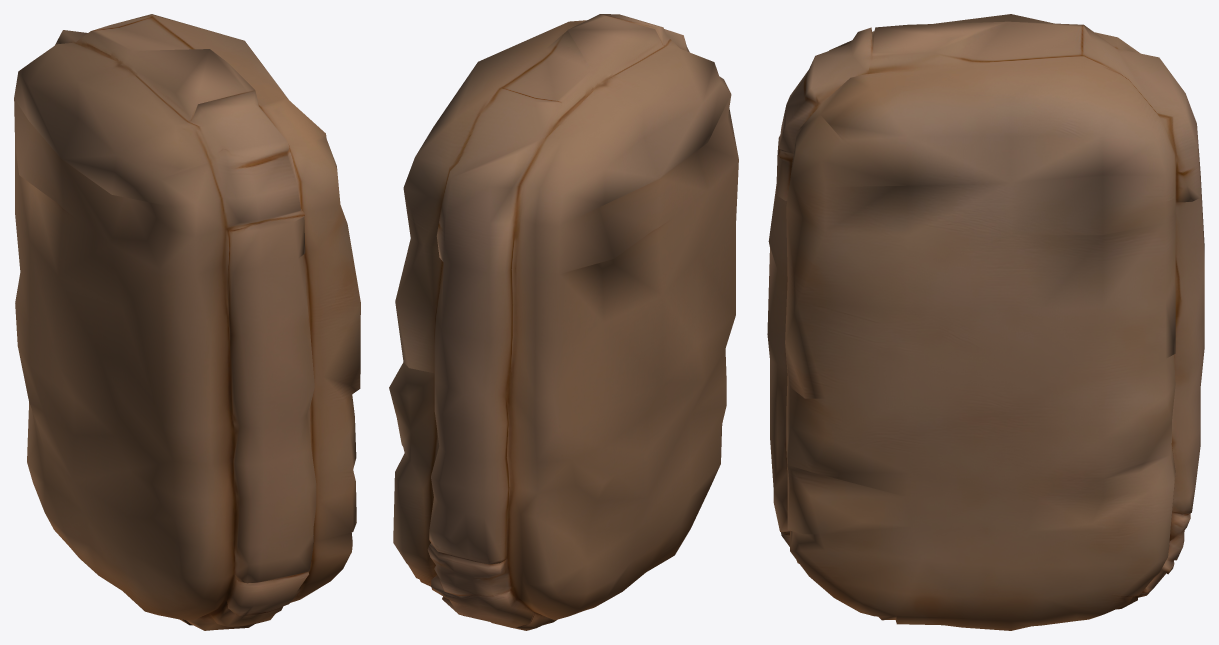
File: turnbuckle.glb
3 views of the same model, side by side, from view 1: azimuth 30°, elevation 25°; view 2: azimuth 150°, elevation 25°; view 3: azimuth 270°, elevation 25° (orthographic). The views are drawn at different scales.
Visible parts, largest first — view 1: tripo_node_e46aa57d-32fd-442c-8977-5fd2a6f0e350; view 2: tripo_node_e46aa57d-32fd-442c-8977-5fd2a6f0e350; view 3: tripo_node_e46aa57d-32fd-442c-8977-5fd2a6f0e350.
Boxes of the visible parts, x1,y1,x2,y2 form: tripo_node_e46aa57d-32fd-442c-8977-5fd2a6f0e350: (14,14,360,630); tripo_node_e46aa57d-32fd-442c-8977-5fd2a6f0e350: (389,14,738,630); tripo_node_e46aa57d-32fd-442c-8977-5fd2a6f0e350: (767,14,1204,630).
Bounding box in the file's own units: 0.4031 × 0.9961 × 0.681.
1 material, 1 textured.
